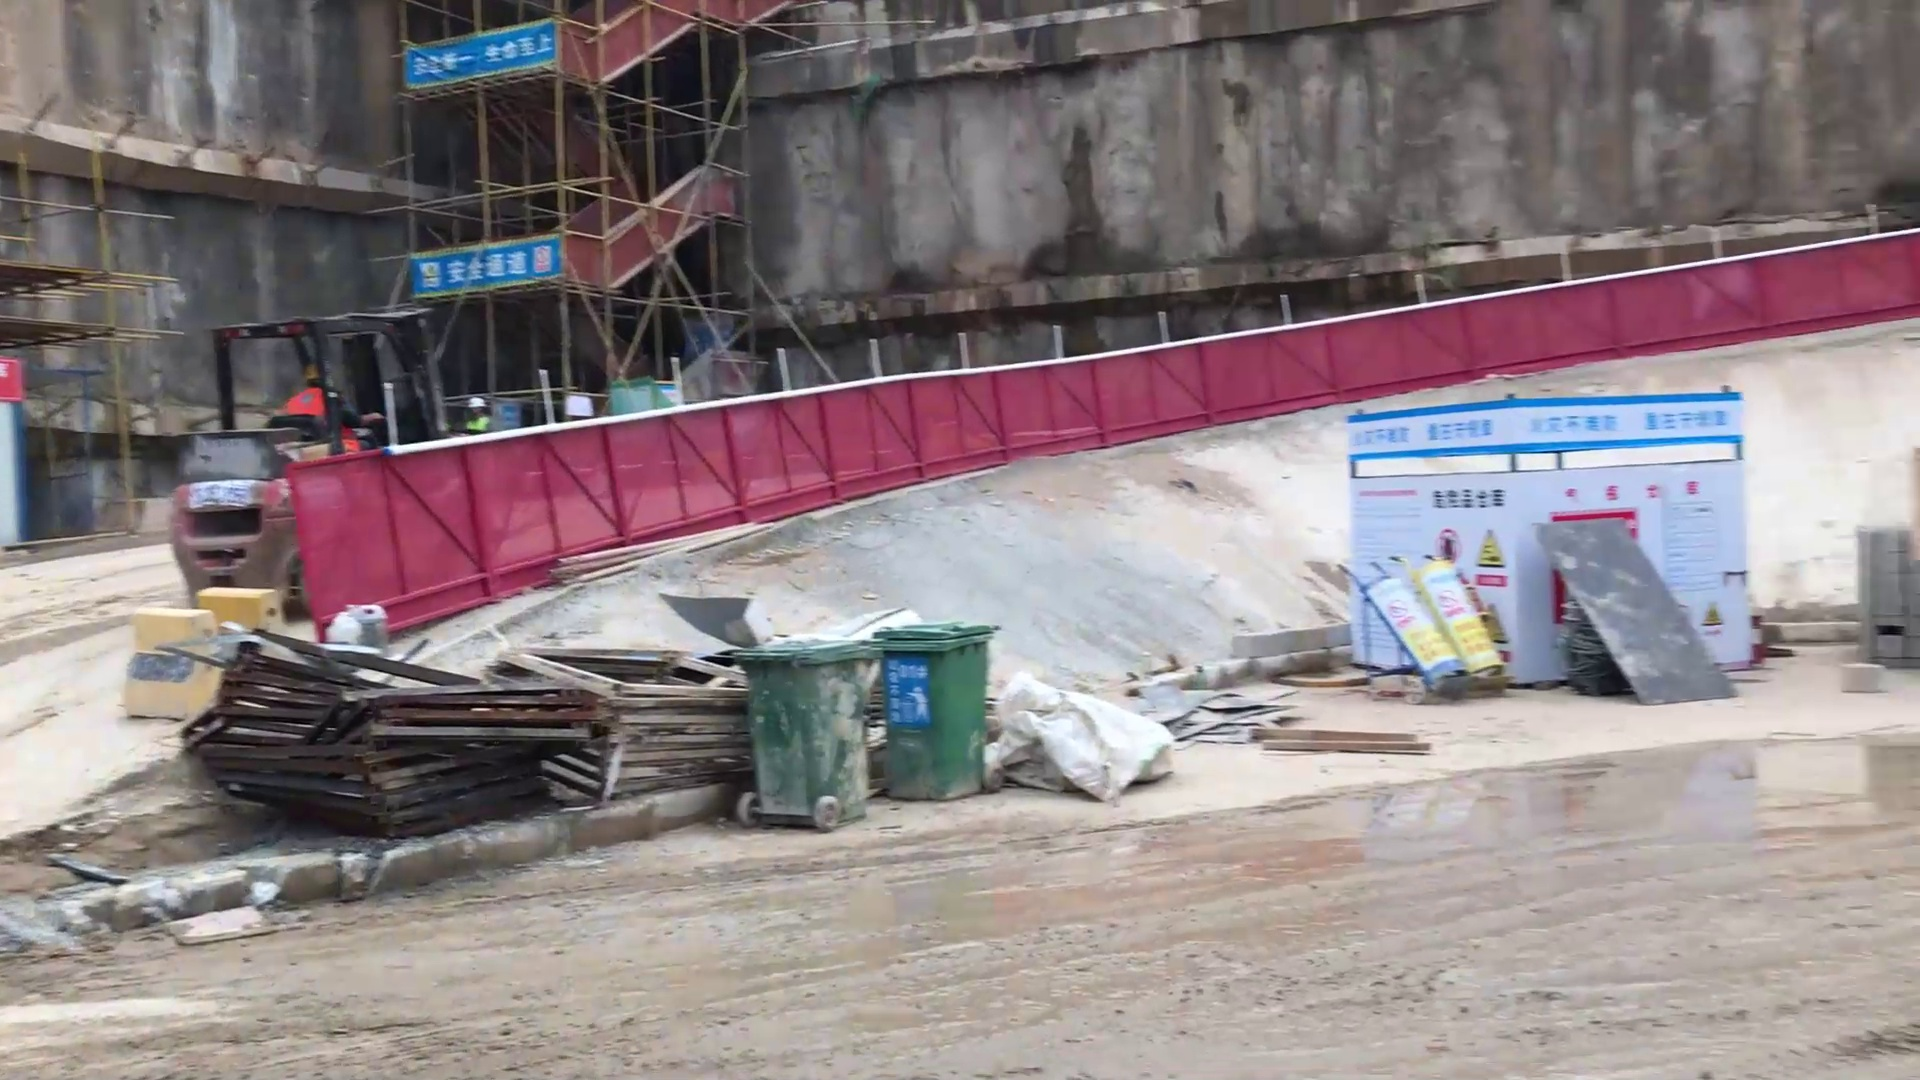fence: (692, 366, 993, 530)
person: (284, 367, 375, 449), (455, 397, 501, 433)
slogan: (1349, 383, 1771, 450), (399, 23, 566, 85), (406, 245, 571, 292)
vest: (286, 387, 323, 415), (465, 414, 494, 435)
